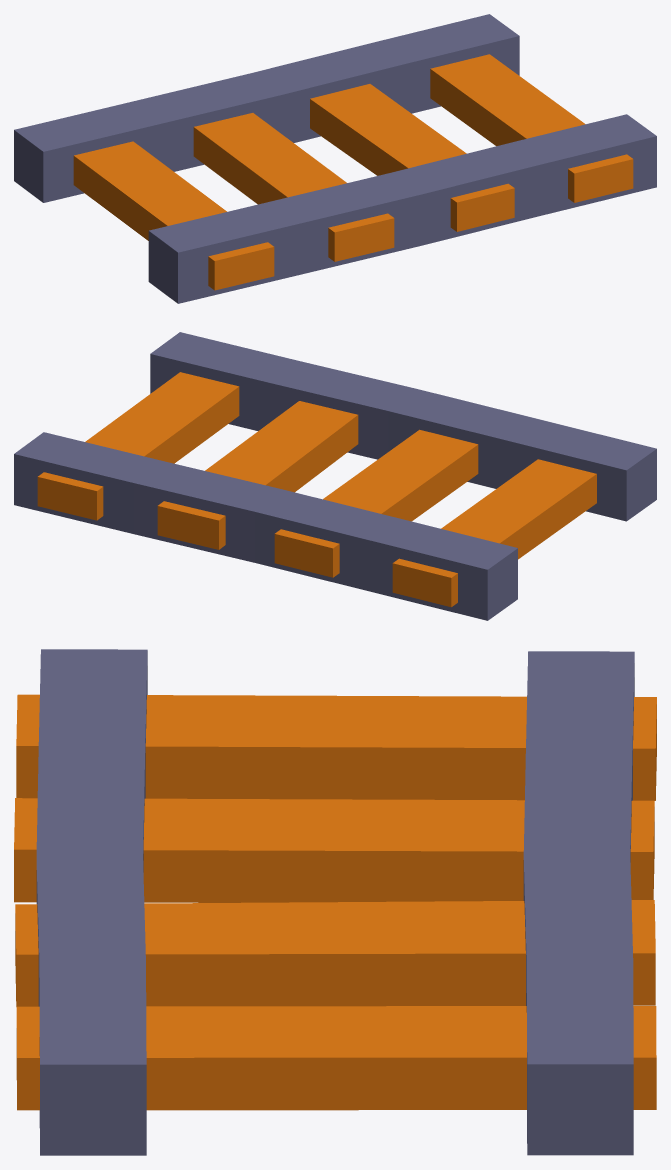
File: Track_Straigt.fbx
3 views of the same model, one above another, from view 1: azimuth 30°, elevation 25°; view 2: azimuth 150°, elevation 25°; view 3: azimuth 270°, elevation 25° (orthographic). The views are drawn at different scales.
Visible parts, largest first — view 1: Track_Straigt; view 2: Track_Straigt; view 3: Track_Straigt.
Boxes of the visible parts, bbox=[...] form: Track_Straigt: bbox=[14, 14, 656, 303]; Track_Straigt: bbox=[14, 332, 656, 620]; Track_Straigt: bbox=[14, 649, 656, 1155].
Bounding box in the file's own units: 6.46 × 4.22 × 0.6609.
